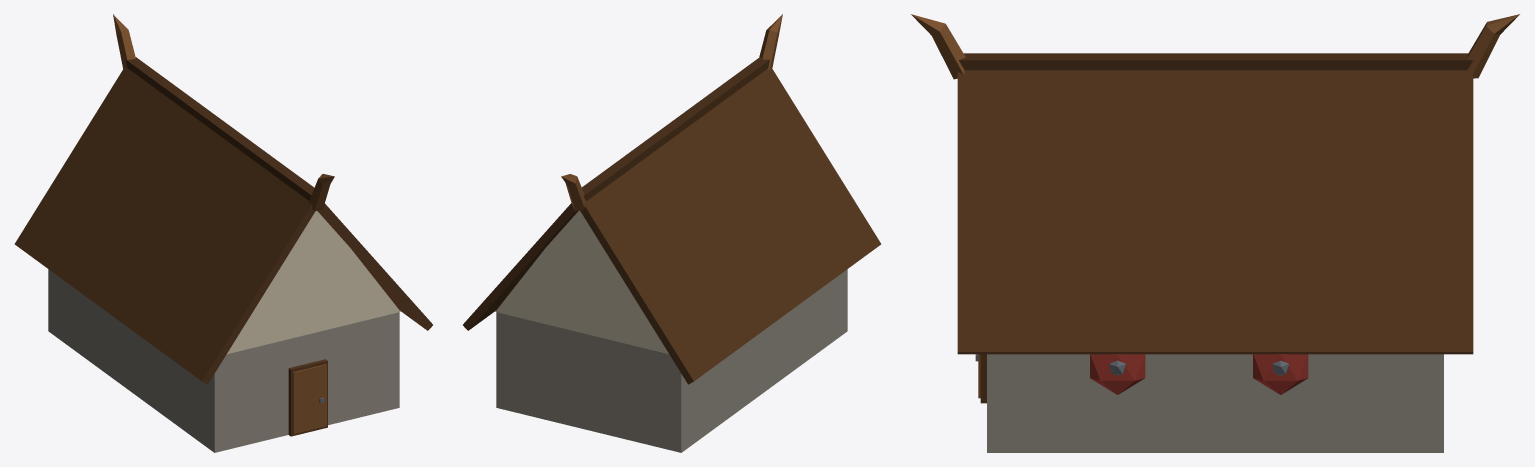
File: dwarf_house_a_broken.glb
The picture shows the model from 3 angles, left to right: view 1: azimuth 30°, elevation 25°; view 2: azimuth 150°, elevation 25°; view 3: azimuth 270°, elevation 25°; orthographic projection. The views are drawn at different scales.
Parts seen in each view (by area): view 1: dwarf_house_a_piece8, dwarf_house_a_piece2, dwarf_house_a_piece0, dwarf_house_a_piece3, dwarf_house_a_piece13, dwarf_house_a_piece11, dwarf_house_a_piece5, dwarf_house_a_piece6, dwarf_house_a_piece10, dwarf_house_a_piece4; view 2: dwarf_house_a_piece13, dwarf_house_a_piece0, dwarf_house_a_piece3, dwarf_house_a_piece8, dwarf_house_a_piece1, dwarf_house_a_piece10, dwarf_house_a_piece4, dwarf_house_a_piece11, dwarf_house_a_piece5, dwarf_house_a_piece6, dwarf_house_a_piece9; view 3: dwarf_house_a_piece2, dwarf_house_a_piece1, dwarf_house_a_piece9, dwarf_house_a_piece10, dwarf_house_a_piece11, dwarf_house_a_piece3, dwarf_house_a_piece6, dwarf_house_a_piece12.
Part boxes in pixels (box(x1,y1,x2,y2)): dwarf_house_a_piece8: box(155, 218, 291, 452); dwarf_house_a_piece2: box(280, 206, 432, 425); dwarf_house_a_piece0: box(68, 181, 188, 419); dwarf_house_a_piece3: box(74, 84, 252, 215); dwarf_house_a_piece13: box(14, 149, 130, 364); dwarf_house_a_piece11: box(249, 143, 295, 323); dwarf_house_a_piece5: box(184, 196, 329, 436); dwarf_house_a_piece6: box(275, 174, 334, 332); dwarf_house_a_piece10: box(92, 14, 185, 118); dwarf_house_a_piece4: box(88, 154, 200, 214); dwarf_house_a_piece13: box(615, 240, 747, 452); dwarf_house_a_piece0: box(684, 196, 834, 418); dwarf_house_a_piece3: box(616, 105, 757, 294); dwarf_house_a_piece8: box(736, 148, 881, 363); dwarf_house_a_piece1: box(463, 274, 608, 422); dwarf_house_a_piece10: box(531, 156, 631, 333); dwarf_house_a_piece4: box(569, 176, 731, 436); dwarf_house_a_piece11: box(691, 73, 830, 163); dwarf_house_a_piece5: box(723, 132, 793, 199); dwarf_house_a_piece6: box(733, 14, 800, 114); dwarf_house_a_piece9: box(499, 246, 548, 298); dwarf_house_a_piece2: box(957, 82, 1212, 452); dwarf_house_a_piece1: box(1106, 235, 1473, 452); dwarf_house_a_piece9: box(1159, 71, 1473, 258); dwarf_house_a_piece10: box(1320, 14, 1519, 176); dwarf_house_a_piece11: box(1012, 53, 1179, 216); dwarf_house_a_piece3: box(1132, 53, 1379, 134); dwarf_house_a_piece6: box(911, 14, 1174, 212); dwarf_house_a_piece12: box(1125, 228, 1251, 419).
Size of the model in its own units: 2.25 by 2.55 by 3.74.
